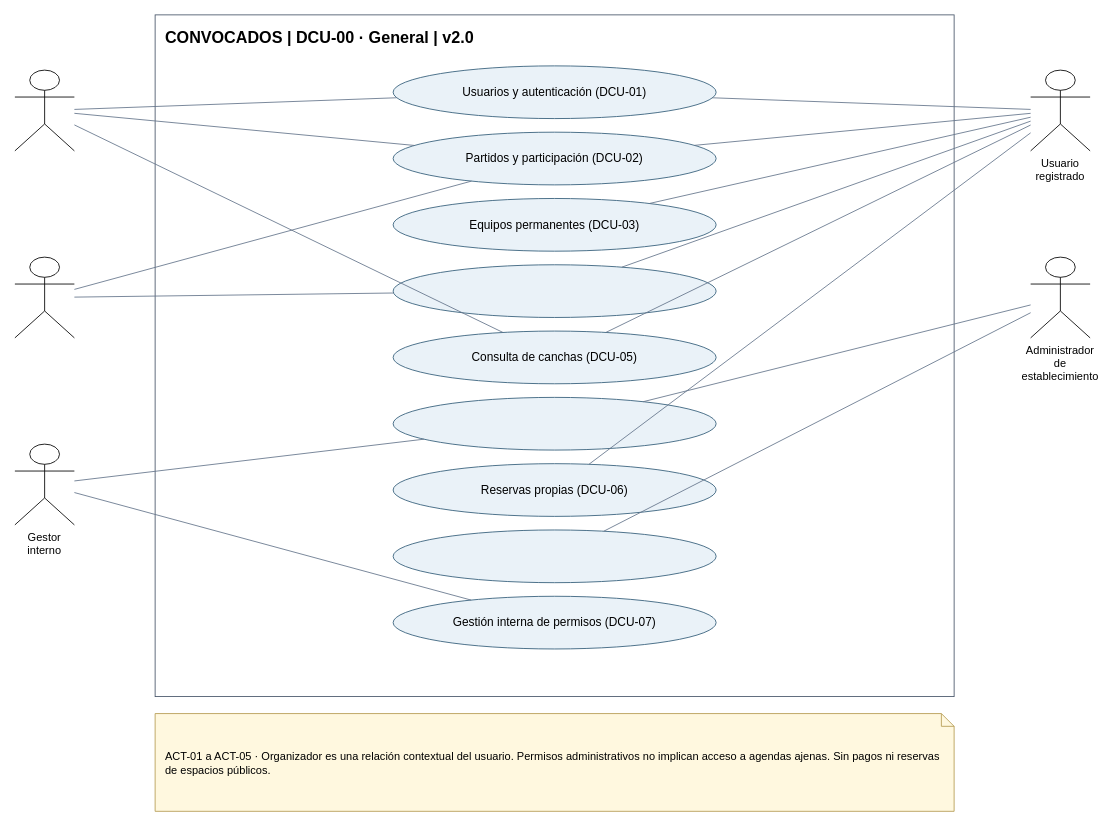
Image size: 1114x826. Some labels were removed from this diagram. The box of each missing label's shape, as (x1, y1, x2, y2) in pixels:
Agenda y turnos fijos (DCU-06): (392, 529, 716, 583)
Asistencia y reputación (DCU-04): (392, 264, 716, 317)
Gestión de catálogo (DCU-05): (392, 397, 716, 450)
Jugador invitado: (14, 256, 74, 338)
Visitante: (14, 69, 74, 151)
